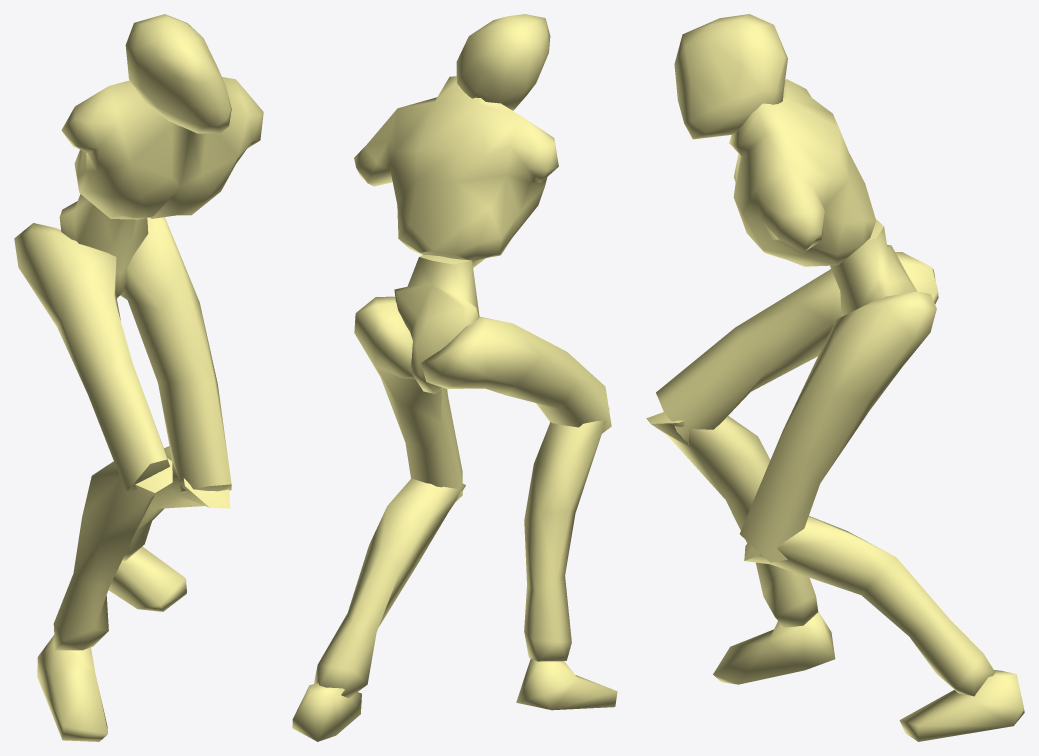
Rendered from filth28.obj.
3 views of the same model, side by side, from view 1: azimuth 30°, elevation 25°; view 2: azimuth 150°, elevation 25°; view 3: azimuth 270°, elevation 25° (orthographic). The views are drawn at different scales.
Visible parts, largest first — view 1: Melee_Husk; view 2: Melee_Husk; view 3: Melee_Husk.
Boxes of the visible parts, <box> form: Melee_Husk: <box>14,14,263,741</box>; Melee_Husk: <box>292,14,617,741</box>; Melee_Husk: <box>646,14,1024,741</box>.
Bounding box in the file's own units: 23.8 × 67.74 × 33.19.
